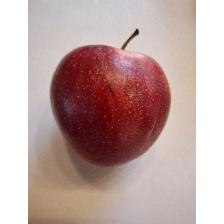Apfel: (48, 24, 174, 170)
